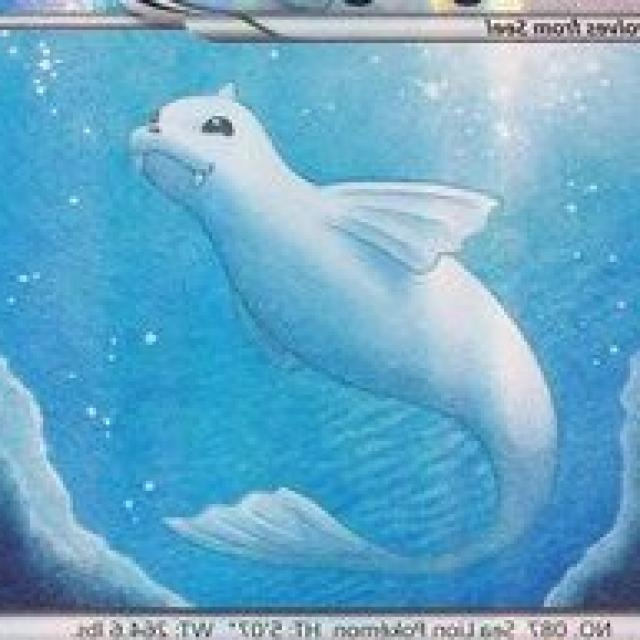Dewgong: (101, 80, 551, 575)
